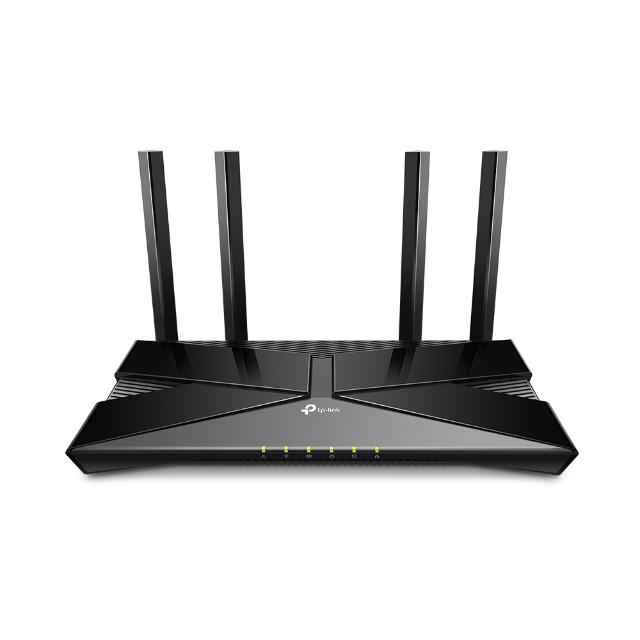Router: (67, 150, 580, 477)
